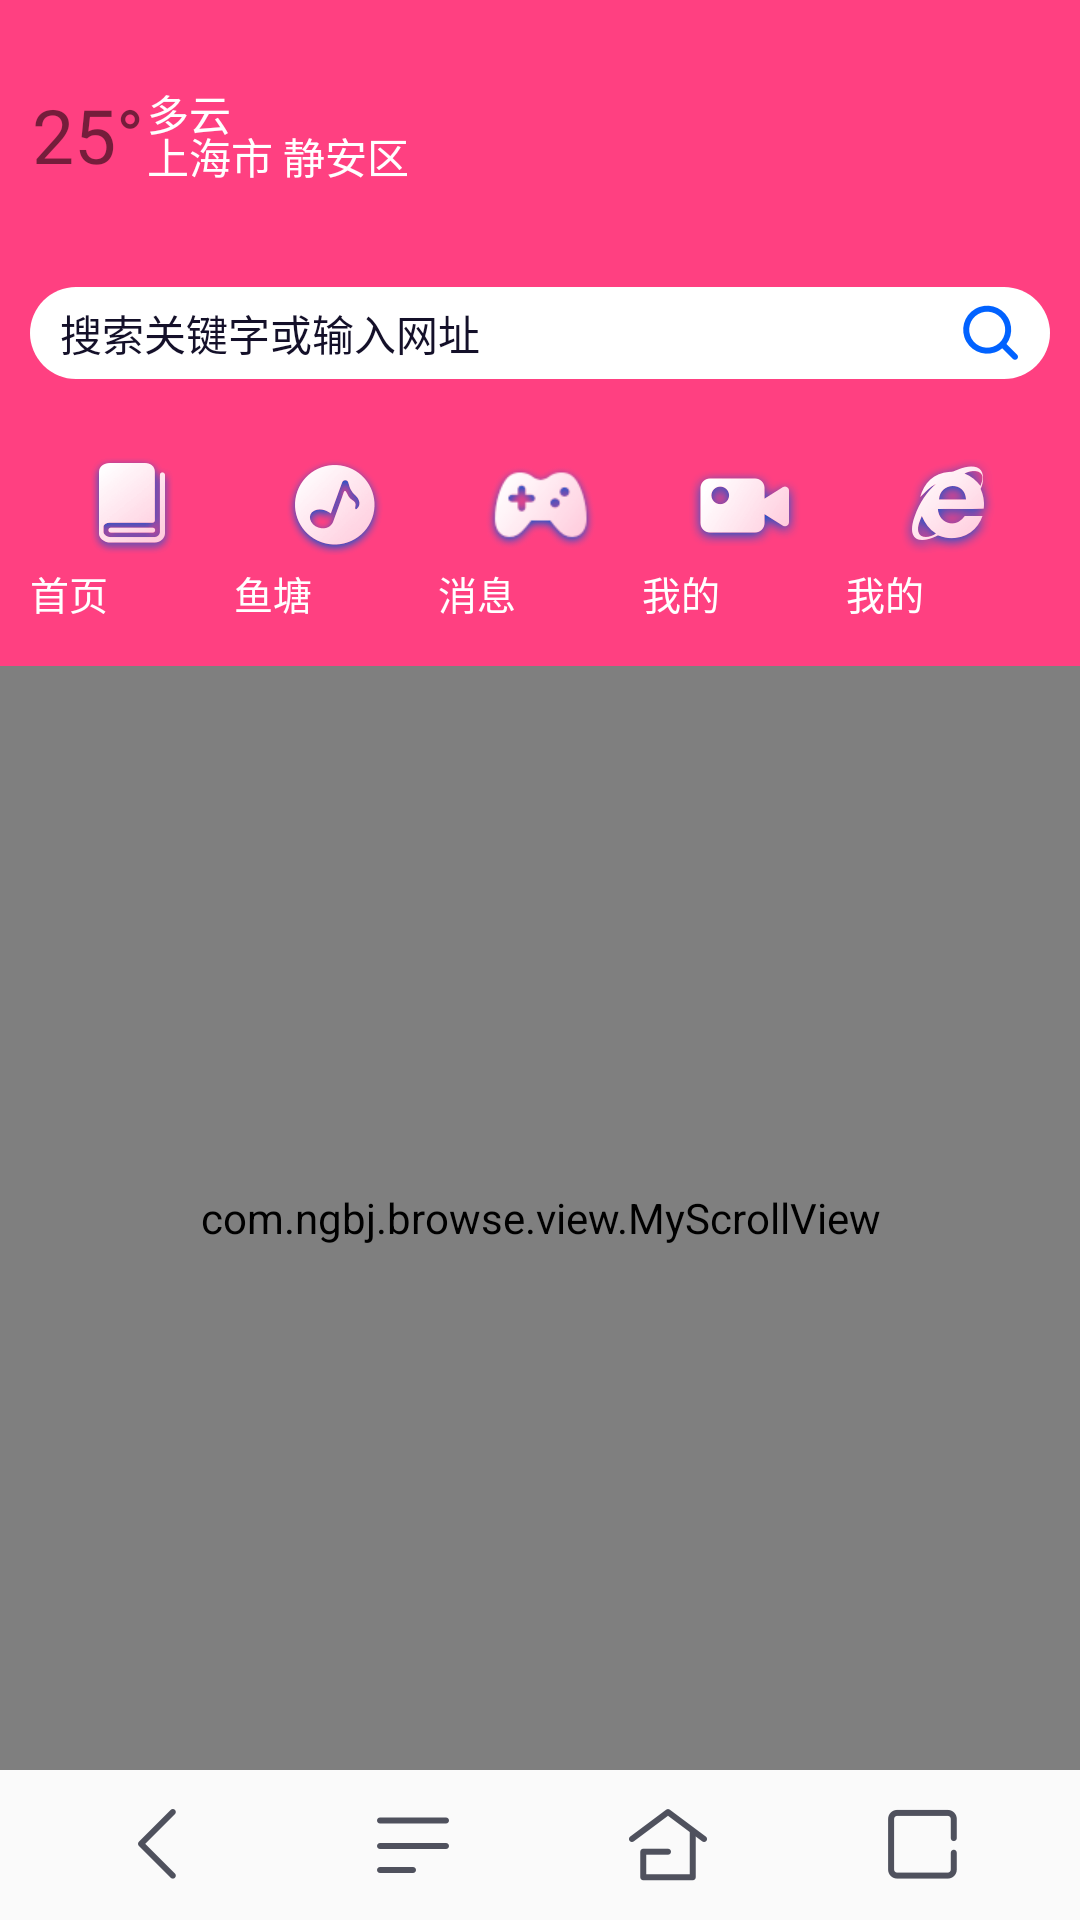

Icon click points for this 1080×1920 phone screenshot, format [x,y]:
index bottom back: [157,1844]
index bottom home: [668,1845]
index bottom meun: [413,1845]
index bottom page: [922,1844]
